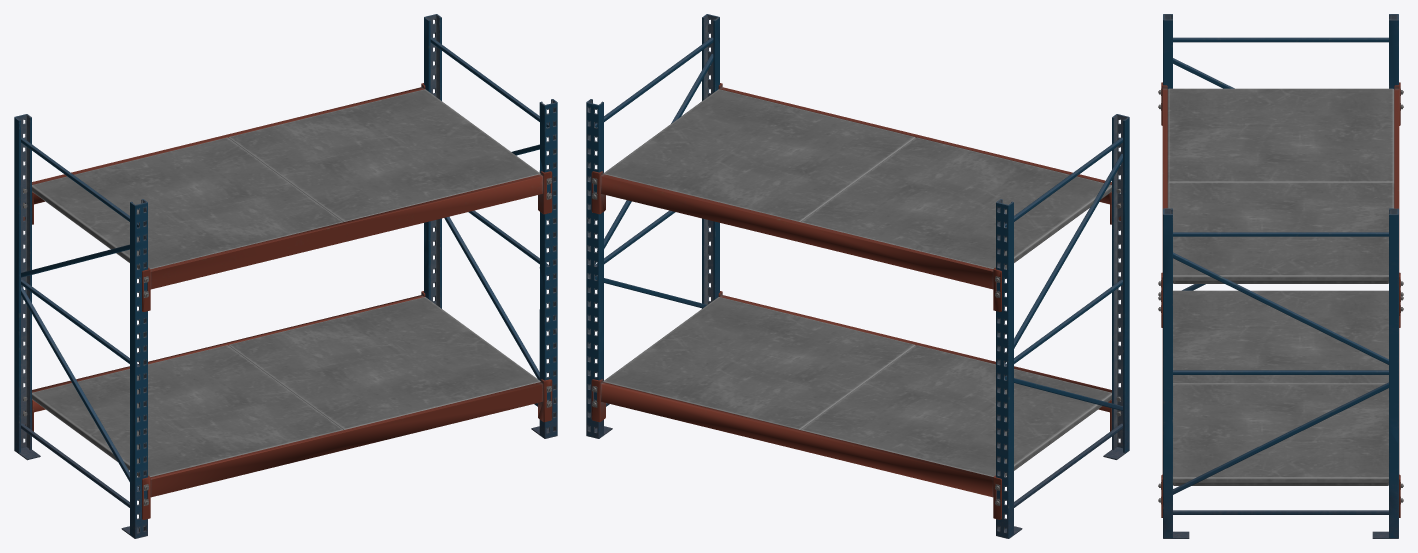
3 views of the same model, side by side, from view 1: azimuth 30°, elevation 25°; view 2: azimuth 150°, elevation 25°; view 3: azimuth 270°, elevation 25° (orthographic). The views are drawn at different scales.
Parts seen in each view (by area): view 1: sm_rack_a01_mesh_00; view 2: sm_rack_a01_mesh_00; view 3: sm_rack_a01_mesh_00.
Part boxes in pixels (x1=…): sm_rack_a01_mesh_00: x1=14, y1=14, x2=557, y2=538; sm_rack_a01_mesh_00: x1=586, y1=14, x2=1129, y2=538; sm_rack_a01_mesh_00: x1=1158, y1=14, x2=1403, y2=538.
Size of the model in its own units: 4 by 3.01 by 2.07.
1 material, 1 textured.
